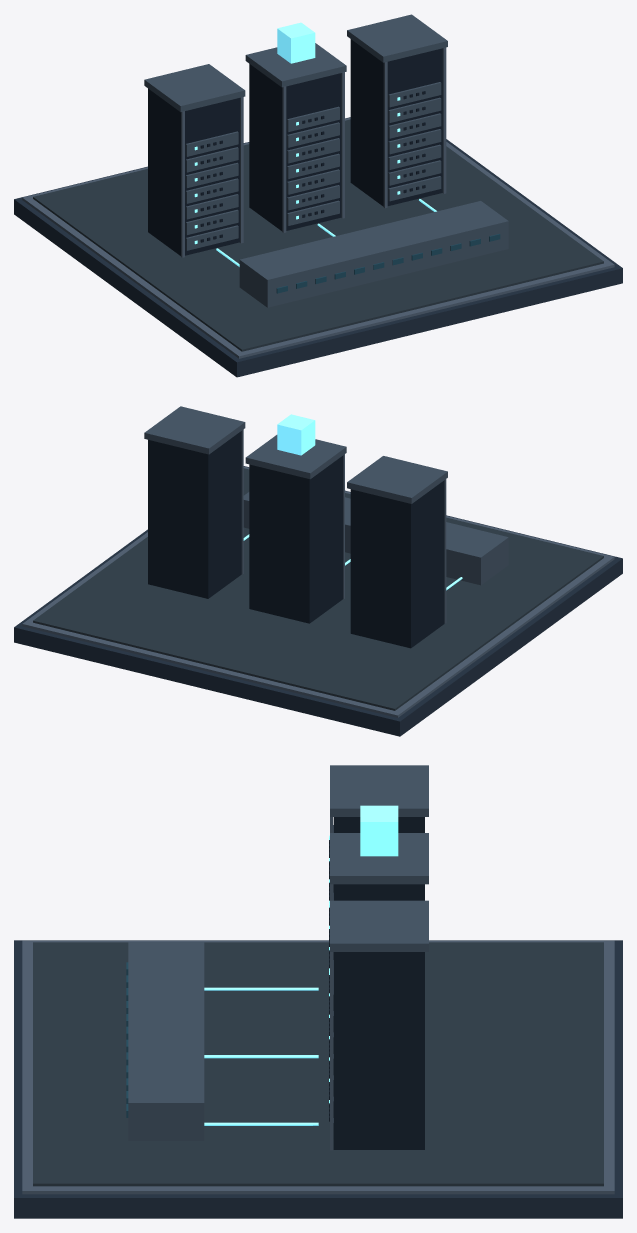
Rendered from detail-infrastructure.glb.
3 renders of one model, top to bottom at view 1: azimuth 30°, elevation 25°; view 2: azimuth 150°, elevation 25°; view 3: azimuth 270°, elevation 25°, orthographic. The views are drawn at different scales.
Visible parts, largest first — view 1: detail-infrastructure, rack (×3), shared-layer, workload; view 2: detail-infrastructure, rack (×3), shared-layer, workload; view 3: detail-infrastructure, rack (×3), shared-layer, workload.
Part boxes in pixels (box(x1,y1,x2,y2)): detail-infrastructure: box(14, 117, 622, 377); rack (×3): box(144, 14, 447, 257); shared-layer: box(239, 201, 508, 307); workload: box(277, 22, 315, 63); detail-infrastructure: box(14, 466, 622, 736); rack (×3): box(144, 406, 447, 648); shared-layer: box(243, 492, 508, 585); workload: box(277, 414, 315, 455); detail-infrastructure: box(14, 940, 622, 1218); rack (×3): box(329, 765, 428, 1150); shared-layer: box(126, 942, 204, 1140); workload: box(360, 805, 398, 856).
Size of the model in its own units: 8 by 4 by 8.
